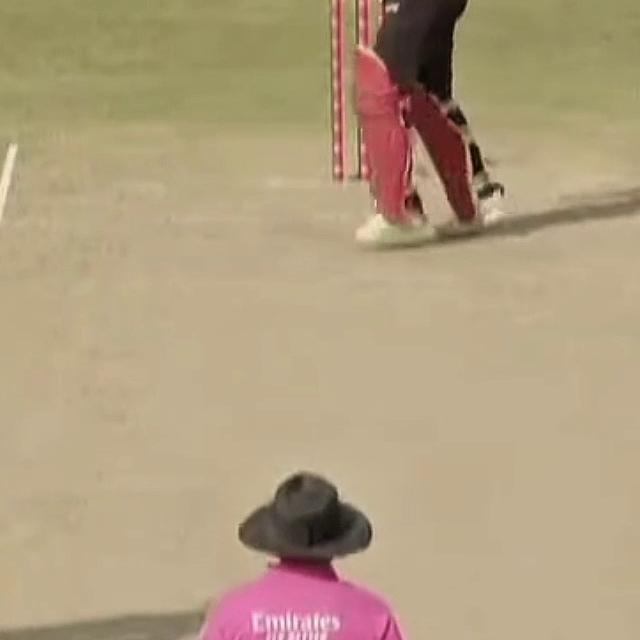umpire: (110, 429, 475, 640)
